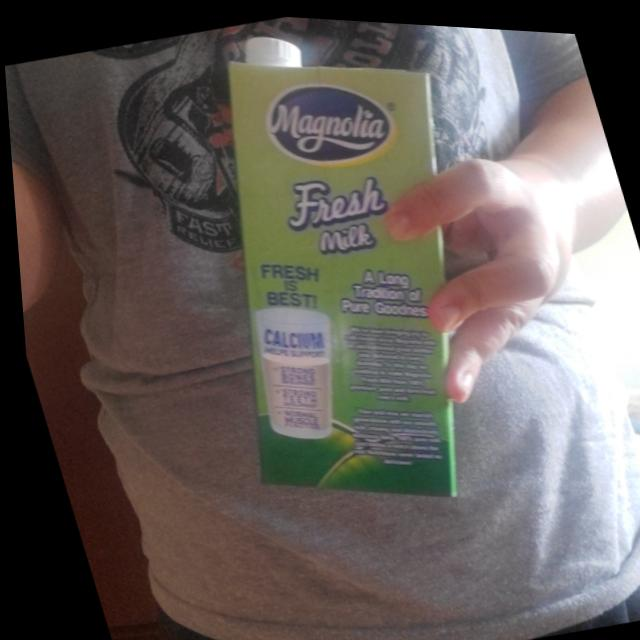milk: (129, 6, 560, 537)
